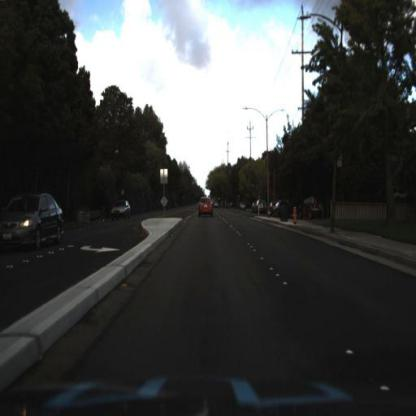car: (1, 191, 67, 255), (269, 192, 296, 223), (106, 196, 135, 223), (298, 196, 328, 220), (111, 198, 132, 222), (198, 195, 214, 221), (254, 195, 271, 219)
